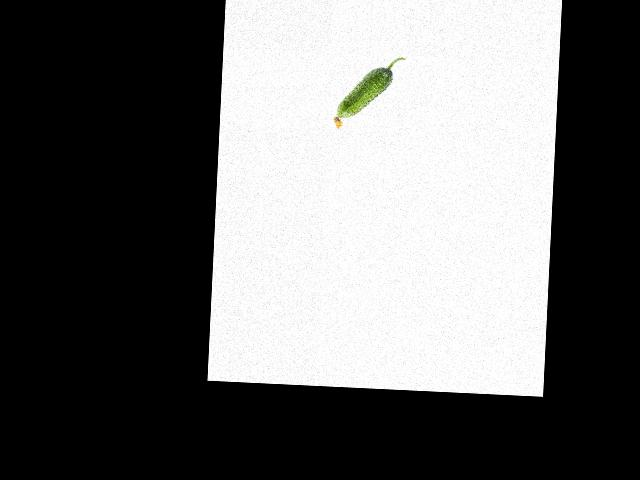cucumber: (333, 54, 405, 132)
